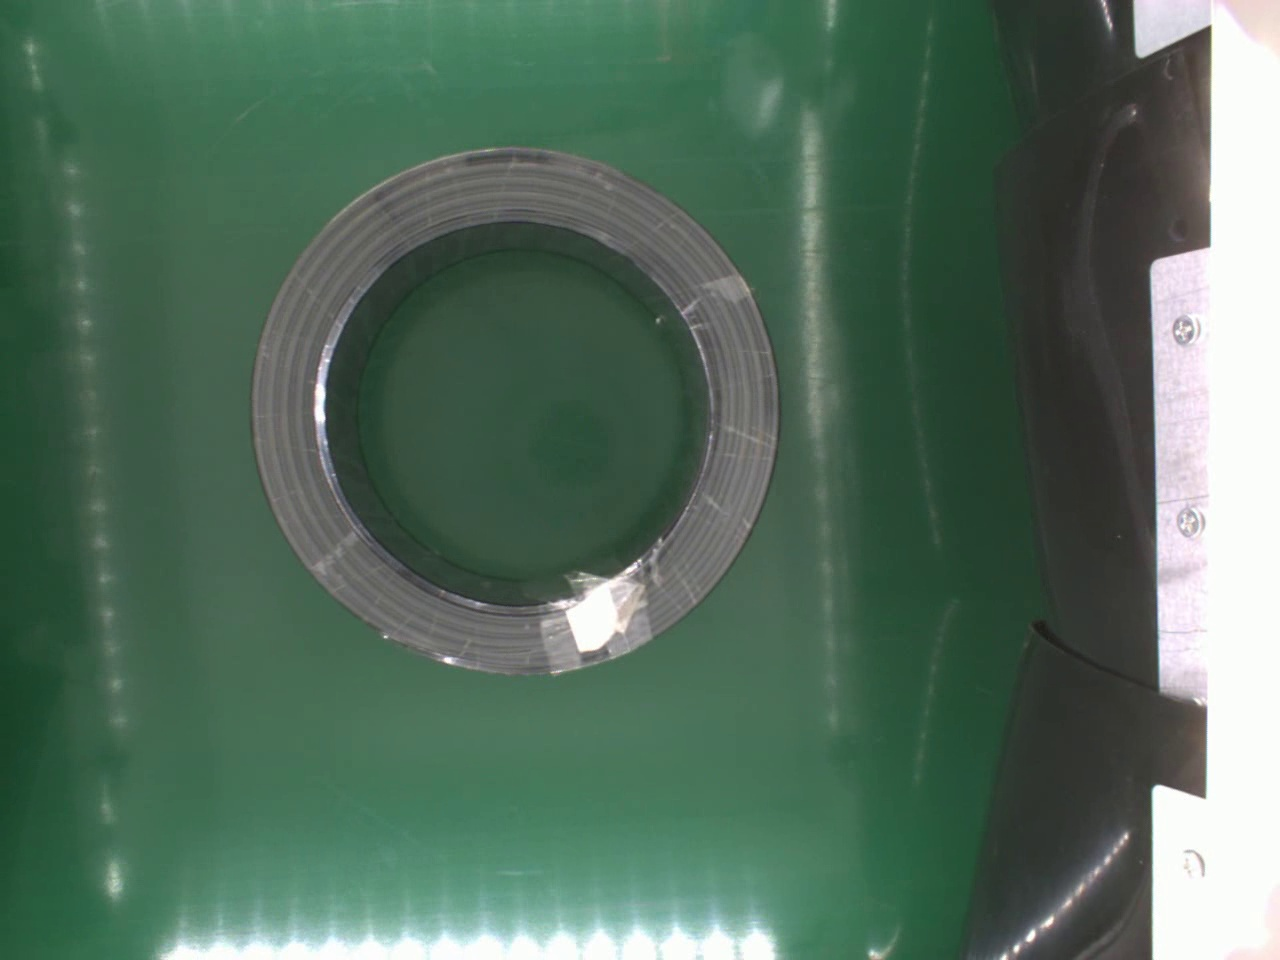black: (248, 143, 790, 682)
